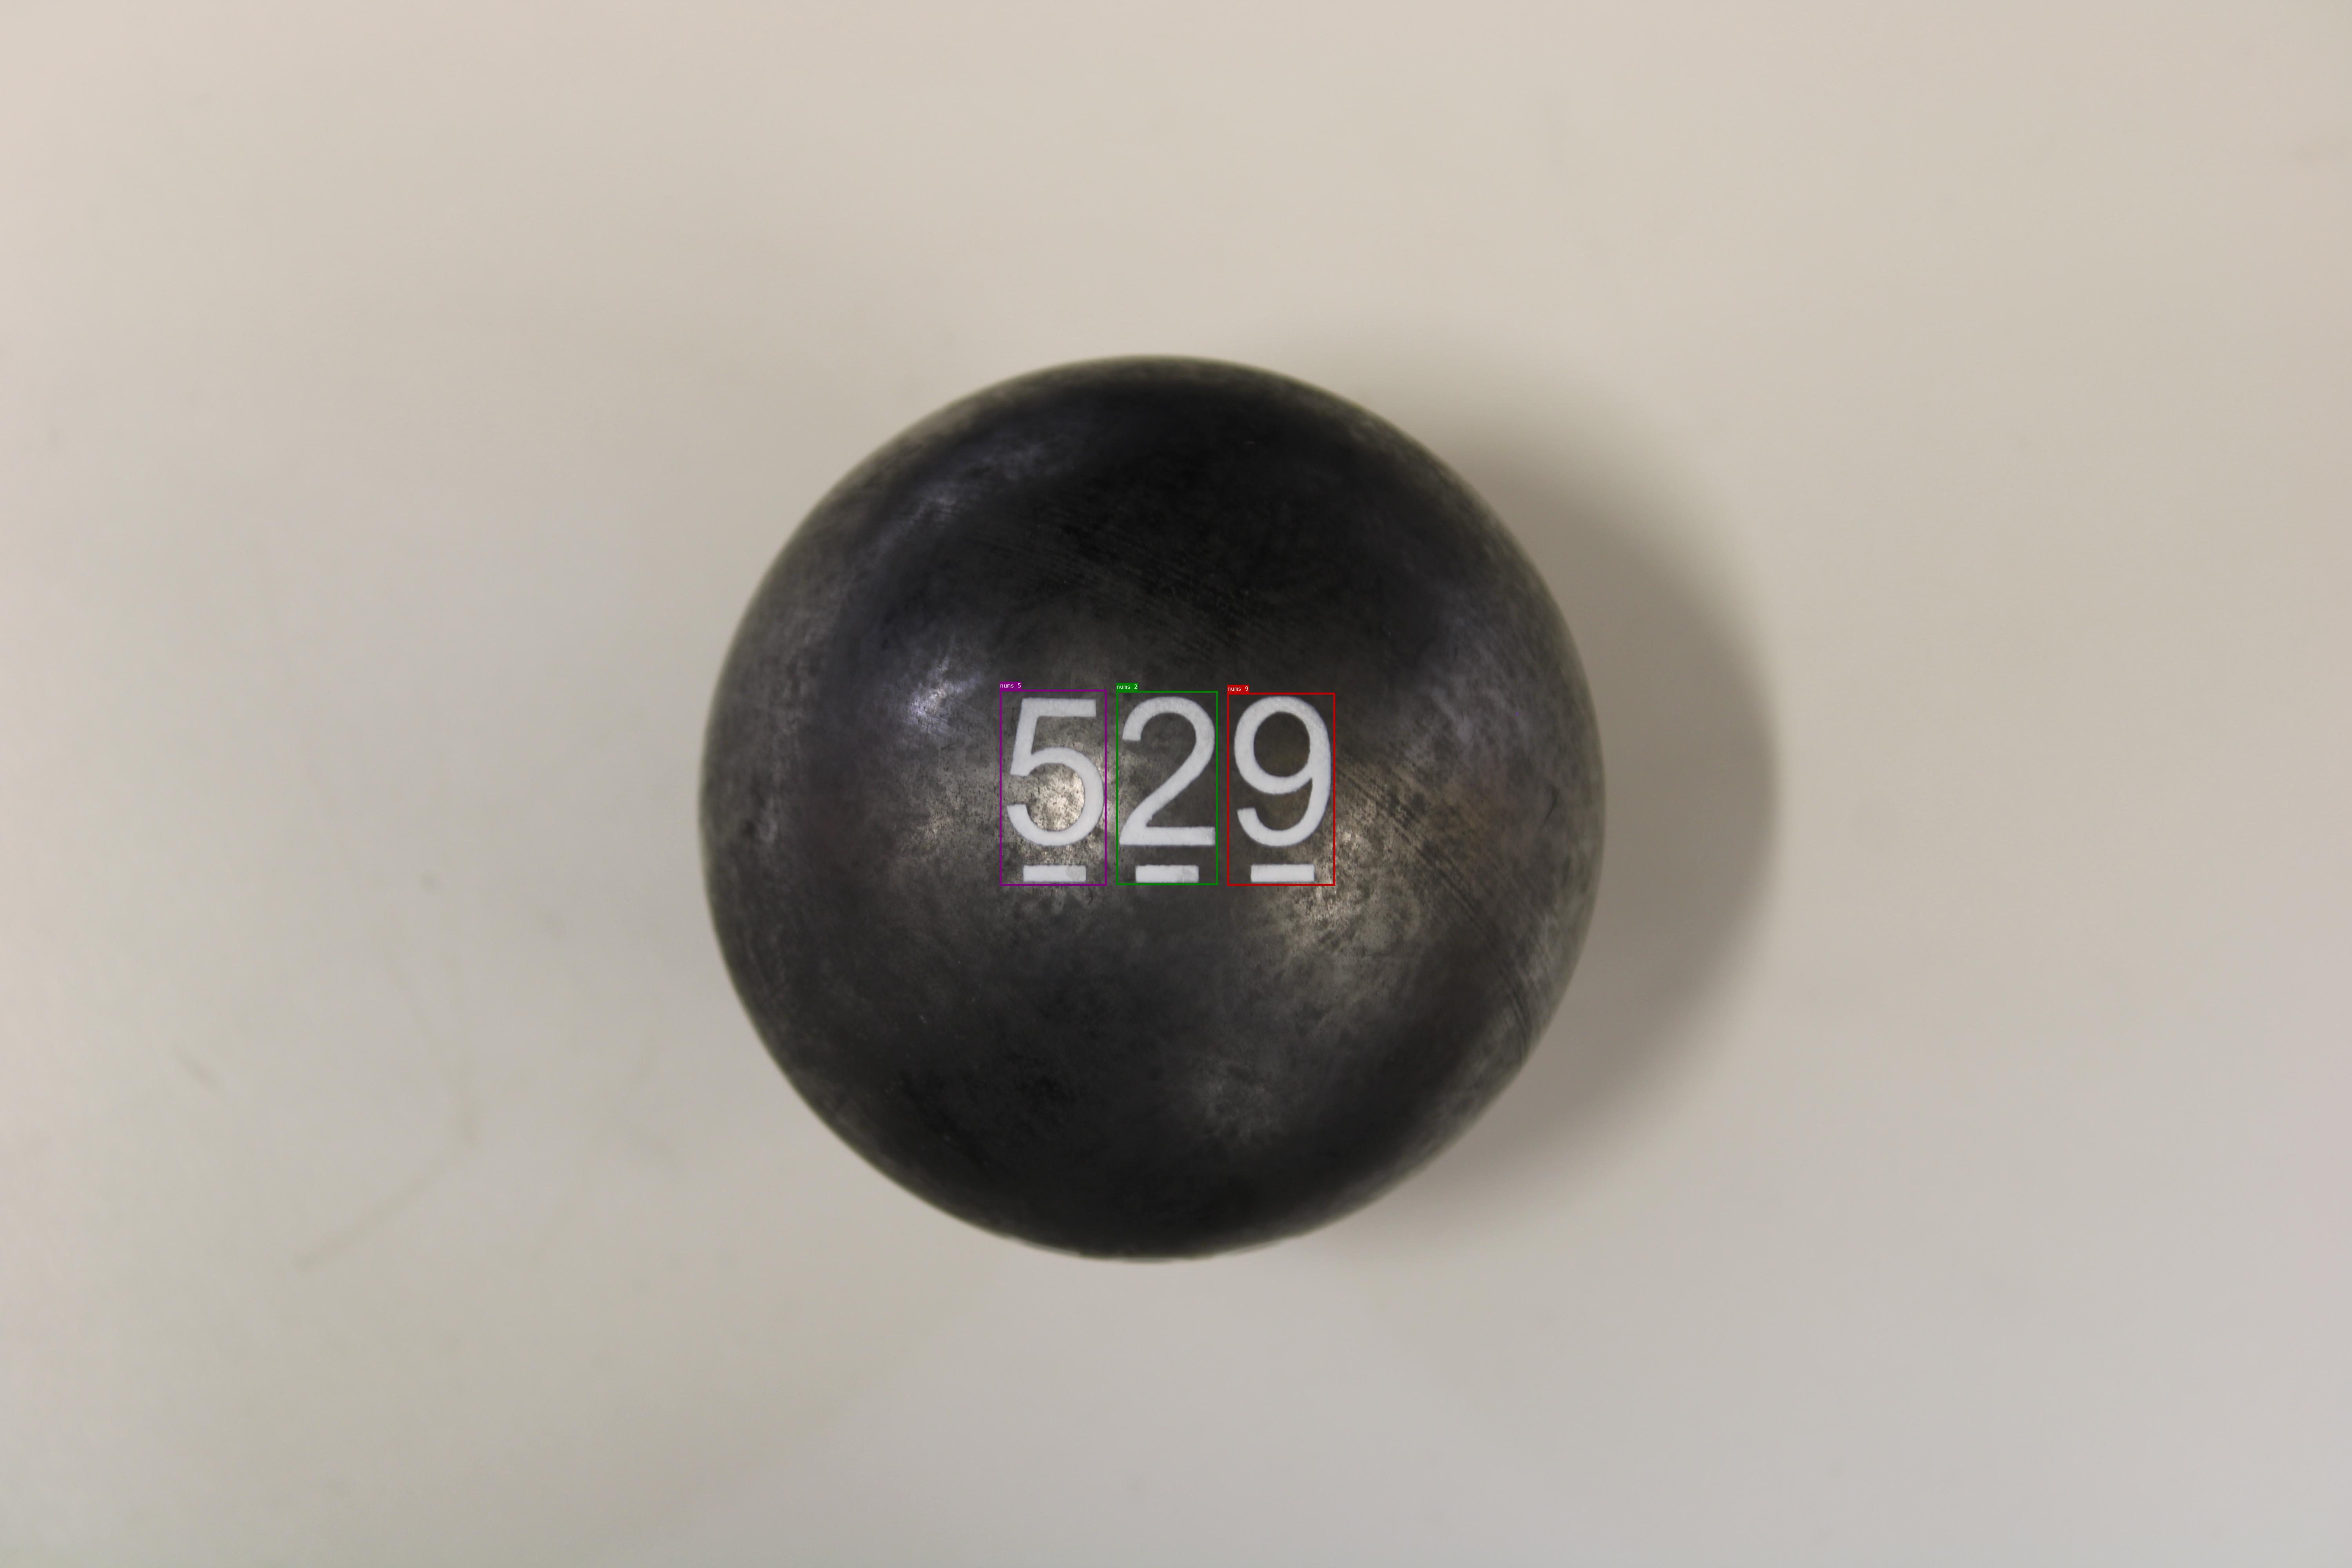nums_2: (1116, 691, 1218, 886)
nums_5: (999, 690, 1106, 886)
nums_9: (1227, 693, 1335, 886)
